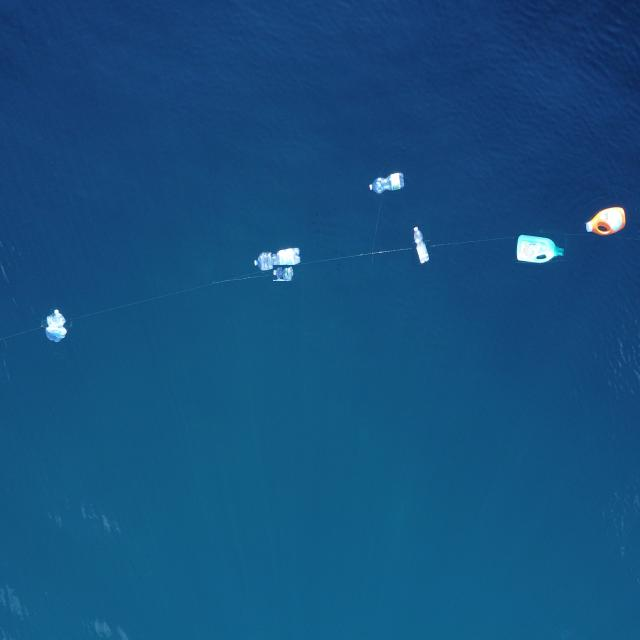bottles: (516, 232, 566, 264), (585, 205, 627, 238), (253, 246, 302, 272), (41, 306, 70, 348), (368, 171, 405, 196), (412, 224, 430, 265), (274, 265, 296, 281)
